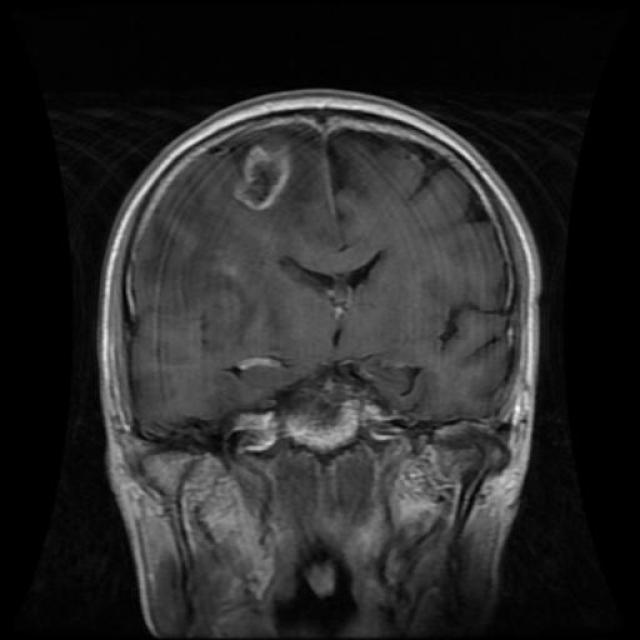glioma: (225, 138, 308, 212)
